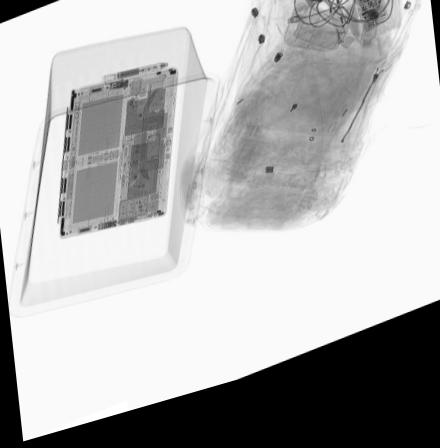Lighter: (328, 20, 350, 63)
